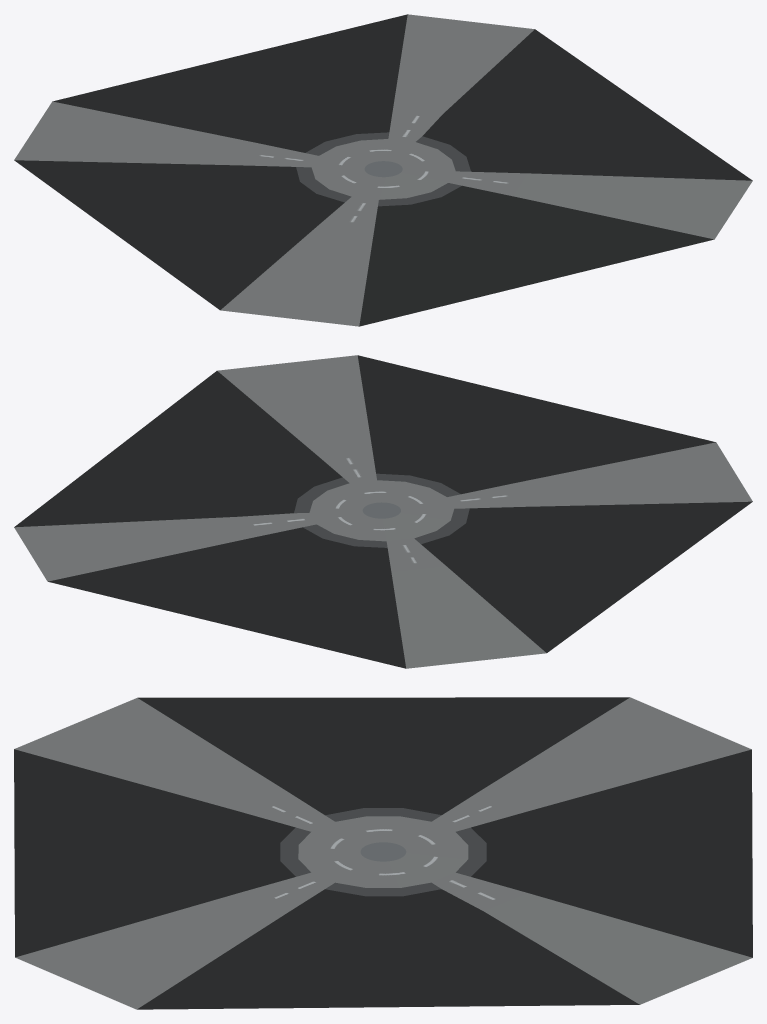
The model's file is MainGround03 1.fbx.
3 renders of one model, top to bottom at view 1: azimuth 30°, elevation 25°; view 2: azimuth 150°, elevation 25°; view 3: azimuth 270°, elevation 25°, orthographic. The views are drawn at different scales.
Parts seen in each view (by area): view 1: MainGround; view 2: MainGround; view 3: MainGround.
Boxes of the visible parts, left/top/right/bottom form: MainGround: left=14, top=14, right=752, bottom=326; MainGround: left=14, top=355, right=752, bottom=668; MainGround: left=14, top=697, right=752, bottom=1009.
Bounding box in the file's own units: 288 × 0.6902 × 288.
